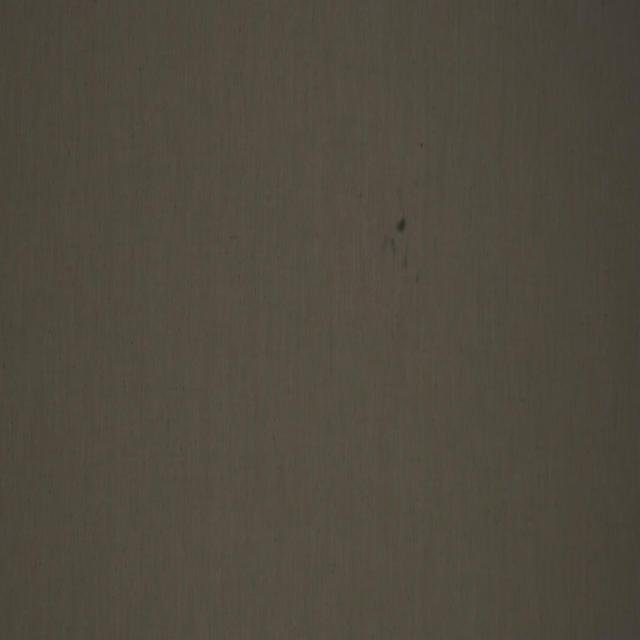dirty: (396, 216, 406, 232), (382, 235, 388, 253), (392, 237, 396, 256), (403, 254, 408, 266), (416, 274, 420, 284), (419, 141, 423, 150)
